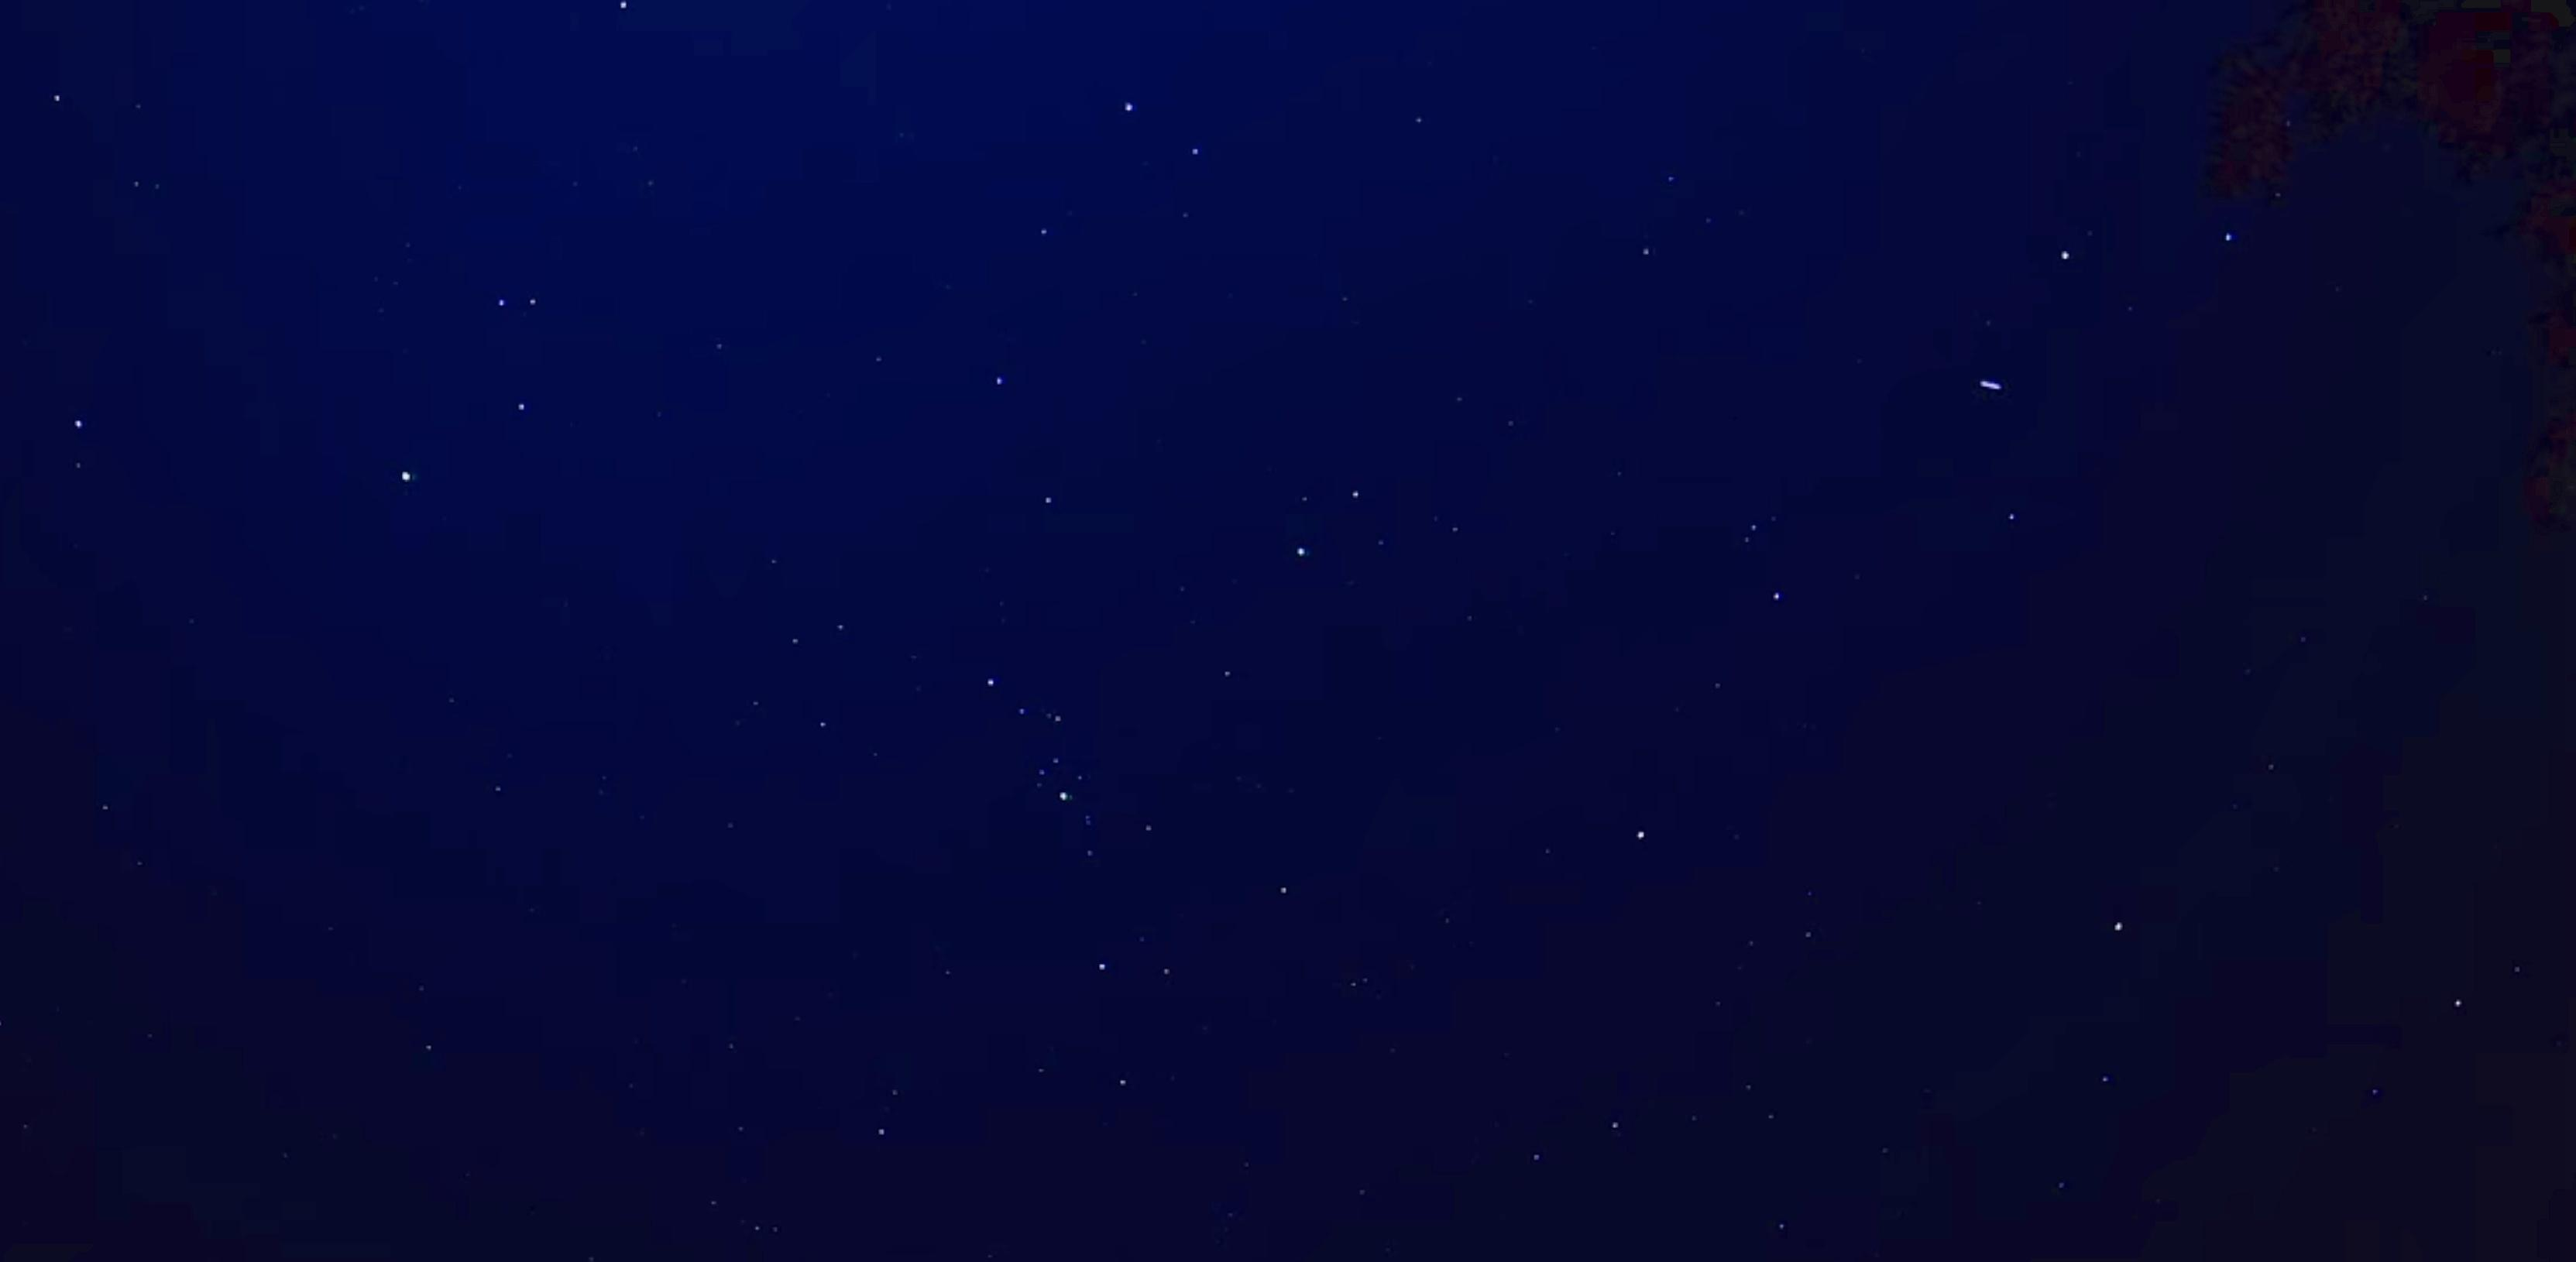meteorite: (1950, 370, 2032, 399)
